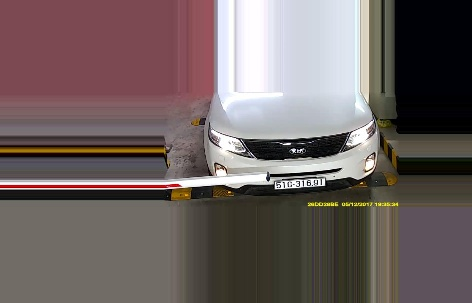plate: (273, 175, 326, 192)
